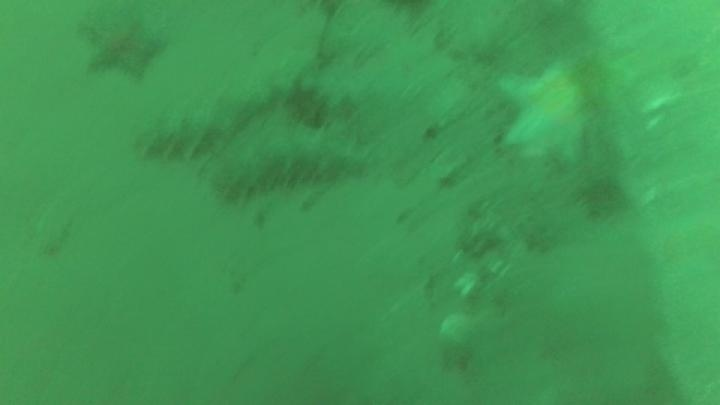holothurian: (210, 127, 371, 203), (131, 86, 263, 165)
starfish: (494, 58, 596, 169), (77, 12, 169, 82)
